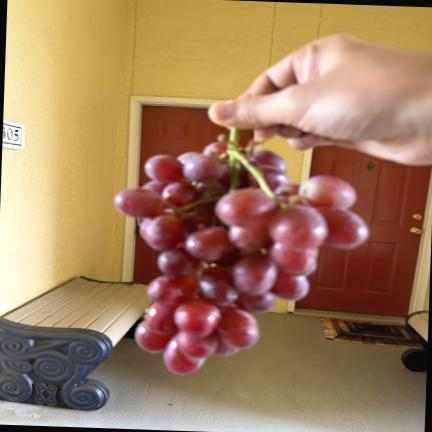grape_cluster: (115, 129, 369, 375)
